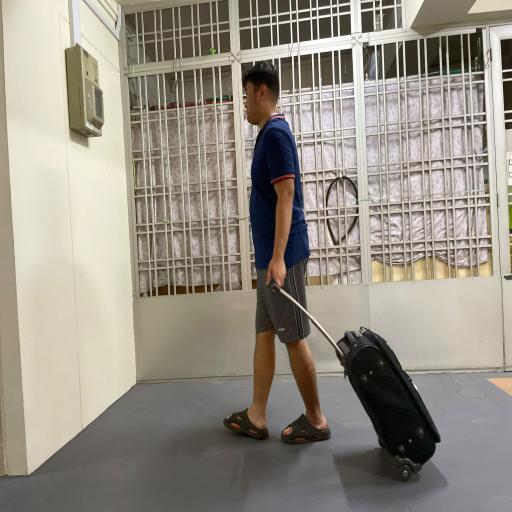person_left: (202, 62, 444, 484)
